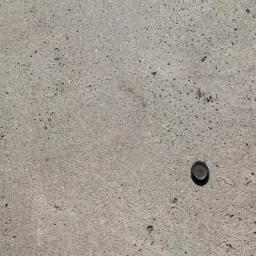FOD: (188, 160, 213, 187)
